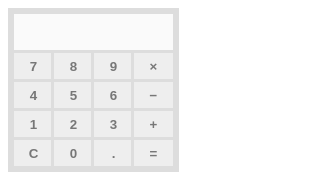
Test: Display shows calculation correctly
This screenshot has width=320, height=189.
Click the button "1" at x=34, y=124, box [11,108,56,140]
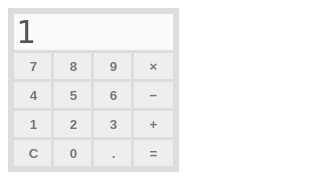
Now the field holds "1", box [11,11,176,53]
Click the button "+" at x=154, y=124, box [131,108,176,140]
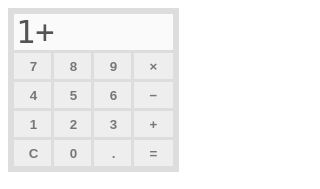
Now the field holds "1+", box [11,11,176,53]
Click the button "2" at x=74, y=124, box [51,108,96,140]
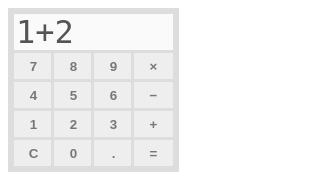
Now the field holds "1+2", box [11,11,176,53]
Click the button "=" at x=154, y=153, box [131,137,176,169]
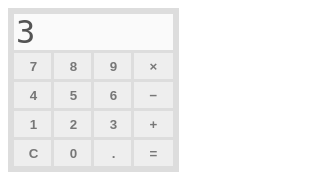
Now the field holds "3", box [11,11,176,53]
